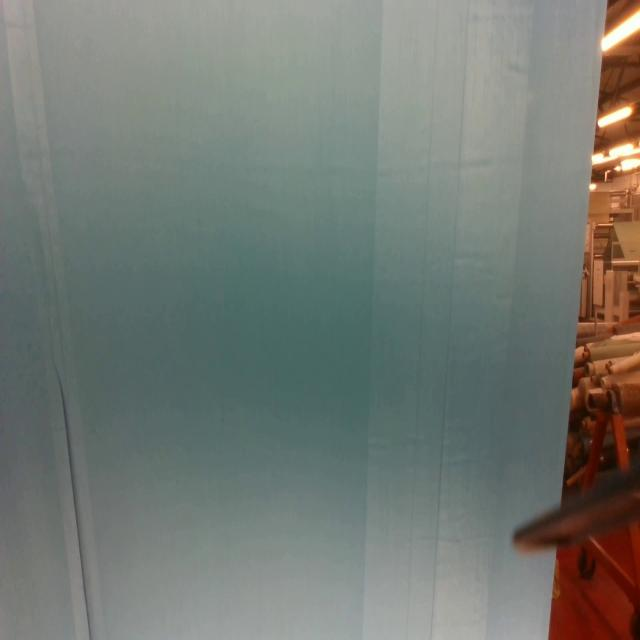crease: (362, 4, 512, 640), (4, 0, 103, 640)
